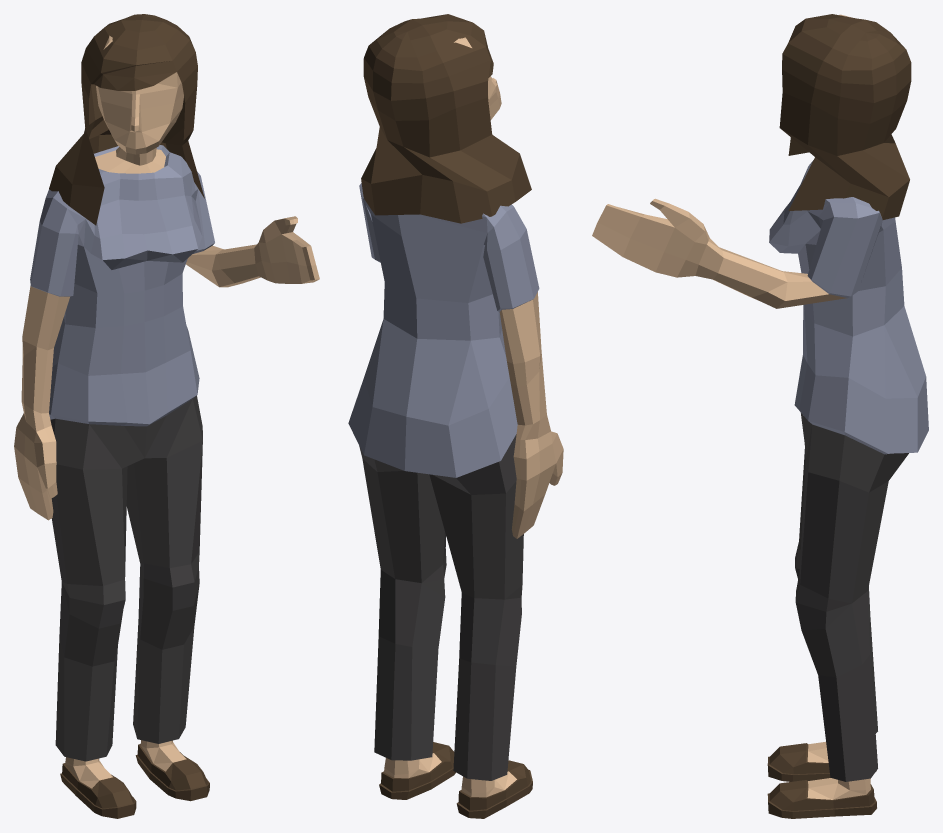
The model's file is Female_Crowd_Chatting.glb.
The picture shows the model from 3 angles, left to right: view 1: azimuth 30°, elevation 25°; view 2: azimuth 150°, elevation 25°; view 3: azimuth 270°, elevation 25°; orthographic projection. The views are drawn at different scales.
Parts seen in each view (by area): view 1: Female_Crowd_Chatting; view 2: Female_Crowd_Chatting; view 3: Female_Crowd_Chatting.
Part boxes in pixels (bbox=[...]): Female_Crowd_Chatting: bbox=[14, 14, 319, 818]; Female_Crowd_Chatting: bbox=[348, 14, 563, 818]; Female_Crowd_Chatting: bbox=[592, 14, 928, 818].
Size of the model in its own units: 0.4234 by 1.67 by 0.6556.
